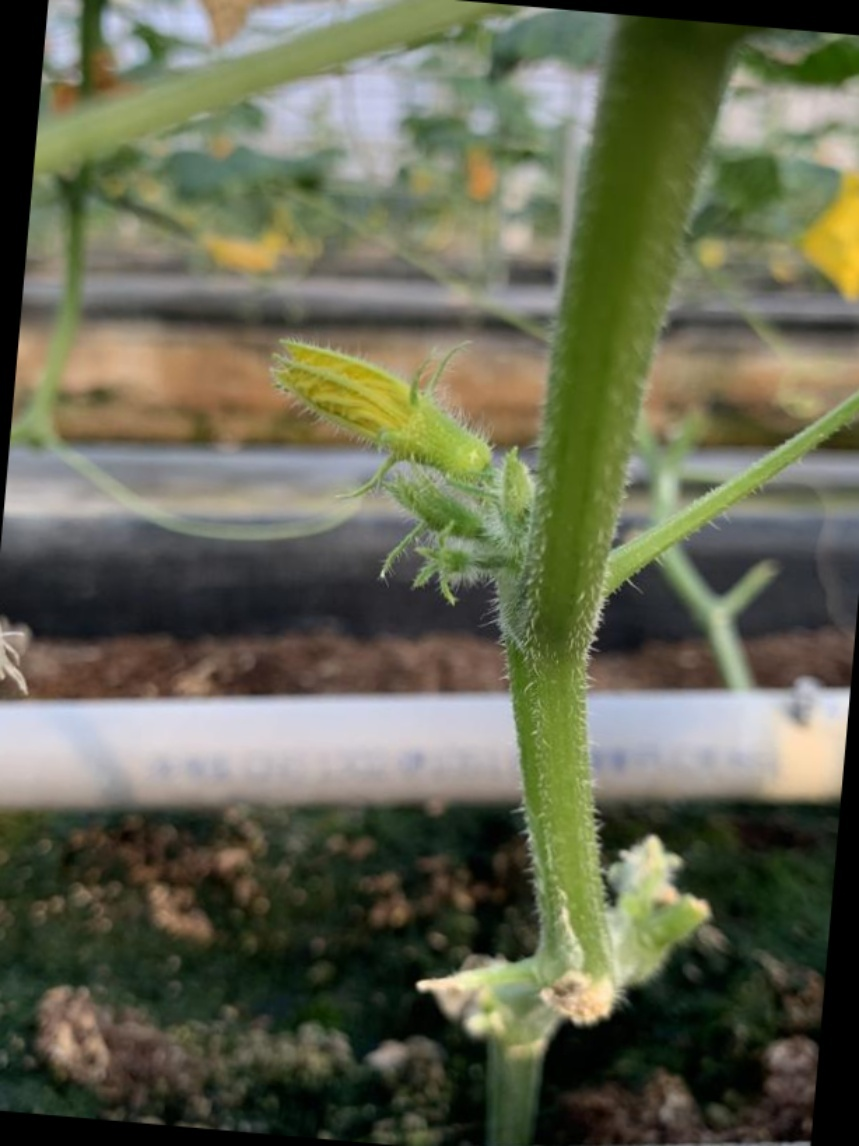bud: (263, 325, 480, 506)
